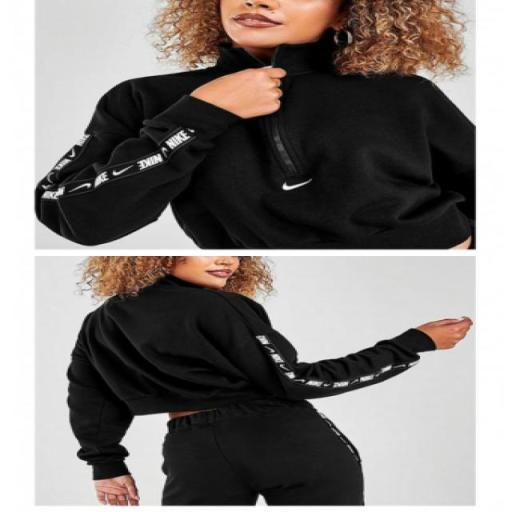Nike: (274, 178, 315, 191)
